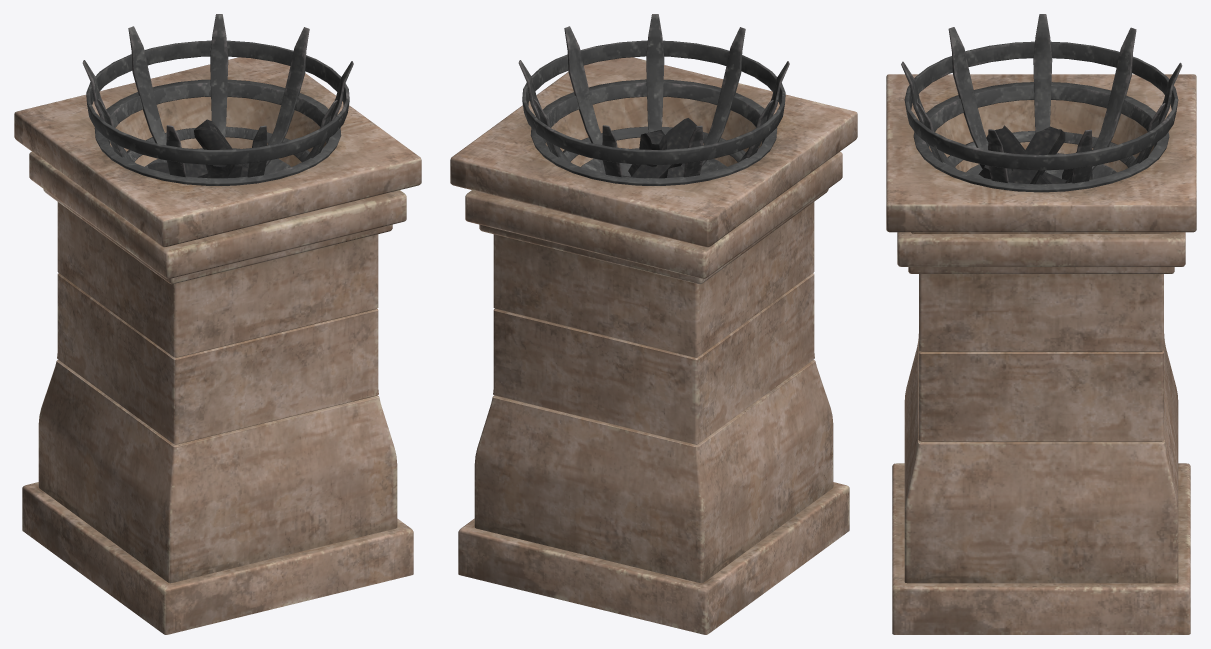
Rendered from Torch2.fbx.
The picture shows the model from 3 angles, left to right: view 1: azimuth 30°, elevation 25°; view 2: azimuth 150°, elevation 25°; view 3: azimuth 270°, elevation 25°; orthographic projection. The views are drawn at different scales.
Visible parts, largest first — view 1: Torch2; view 2: Torch2; view 3: Torch2.
Boxes of the visible parts, <box> form: Torch2: <box>14,14,421,634</box>; Torch2: <box>450,14,857,634</box>; Torch2: <box>886,14,1196,634</box>.
Bounding box in the file's own units: 0.6313 × 1.12 × 0.6313.
